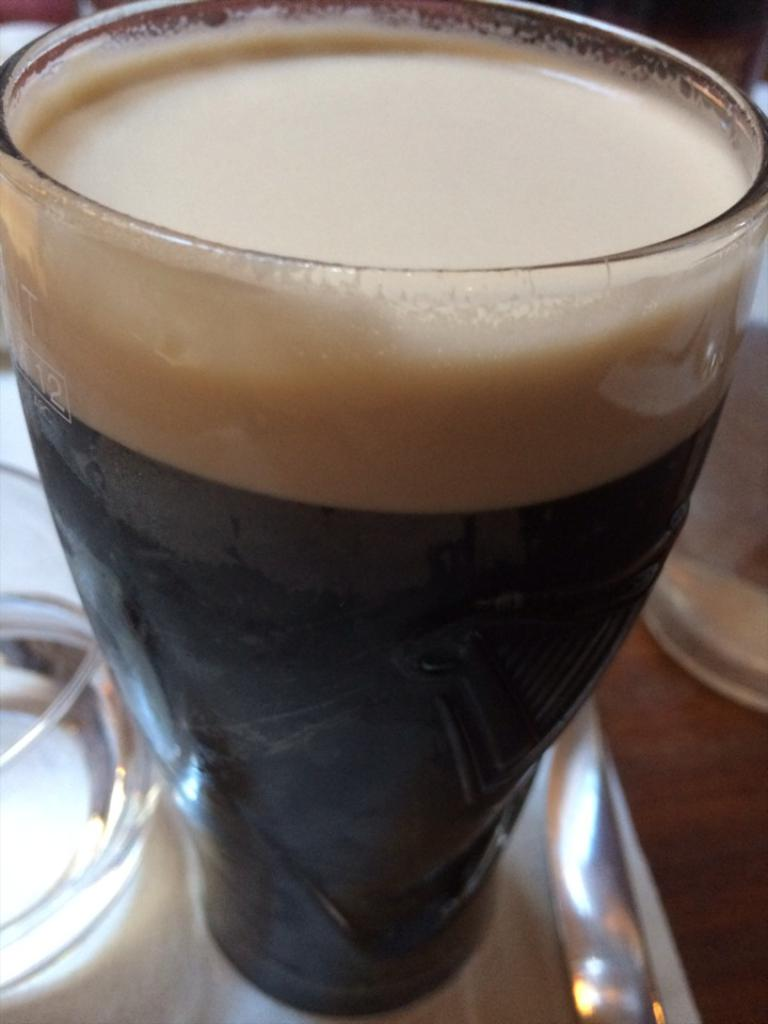Beer: (0, 0, 765, 1017)
